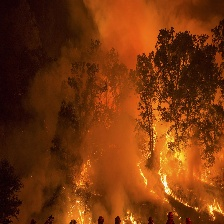fire: (137, 128, 224, 217), (66, 164, 111, 221), (118, 208, 135, 224)
smoke: (75, 1, 216, 118)
